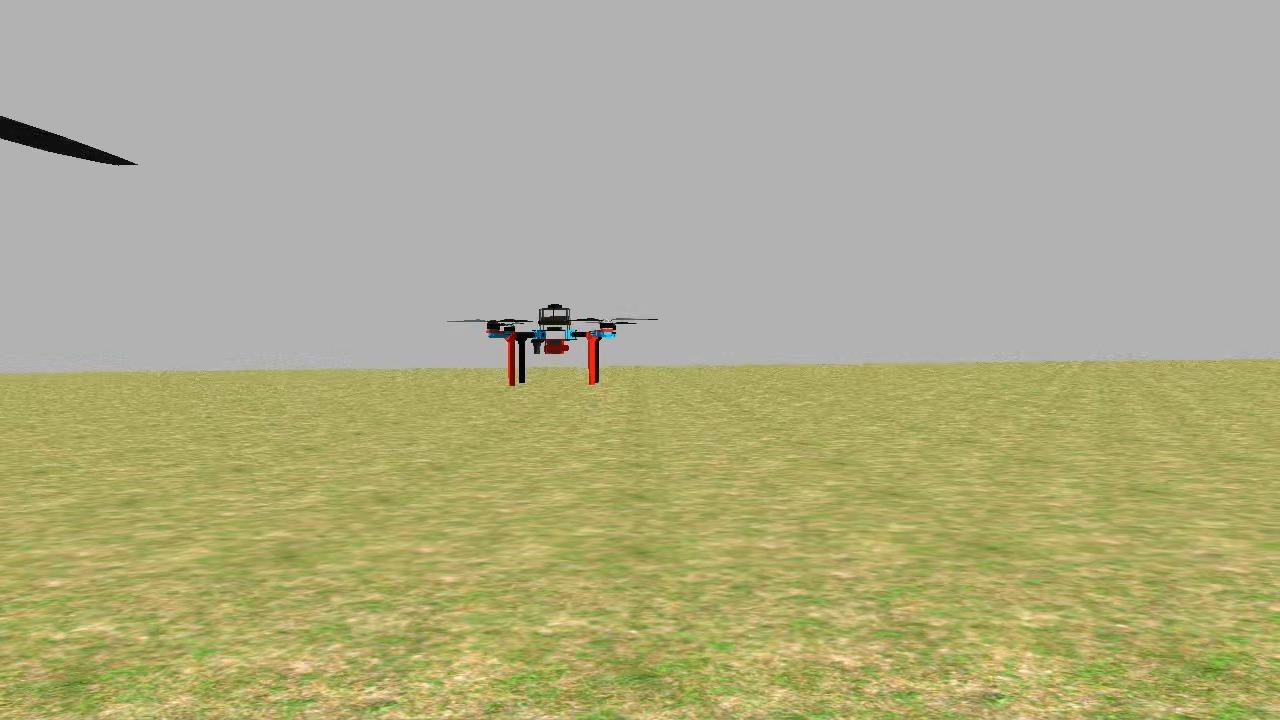UAV: (484, 296, 618, 394)
